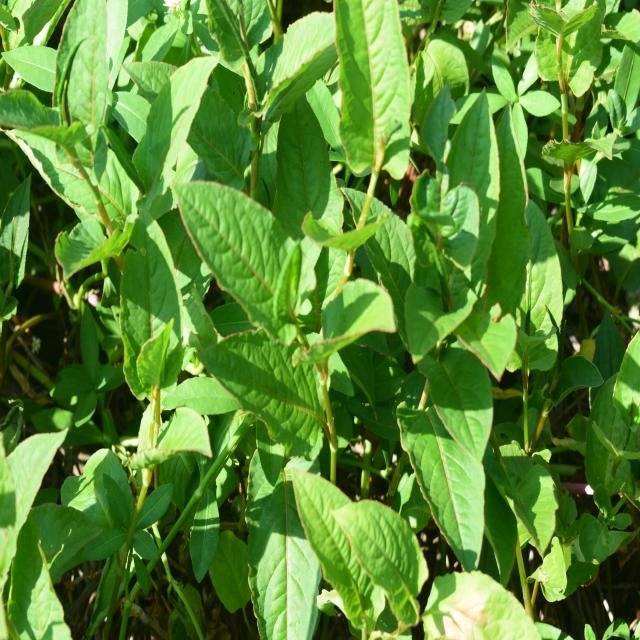Chinese_knotweed: (19, 4, 208, 390), (171, 153, 376, 480), (390, 259, 518, 551)
